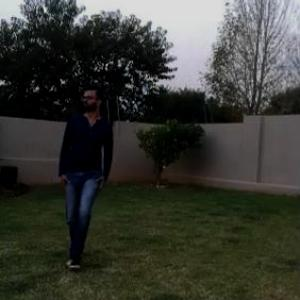follow: (52, 81, 116, 266)
